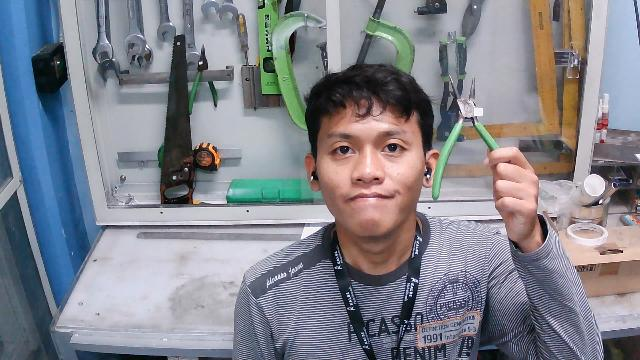tang_cucut_lancip_1: (428, 68, 521, 210)
